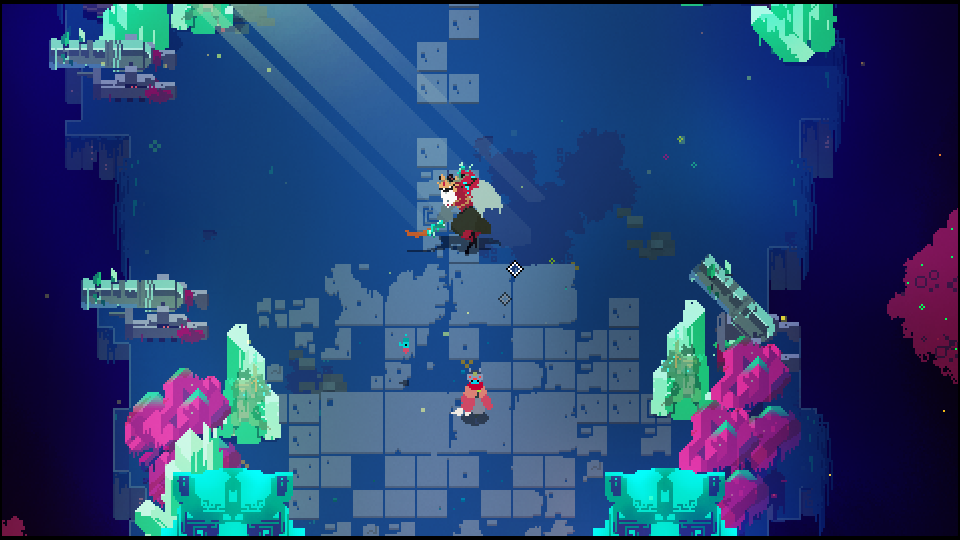hanged_man: (411, 167, 505, 254)
player: (459, 368, 493, 425)
